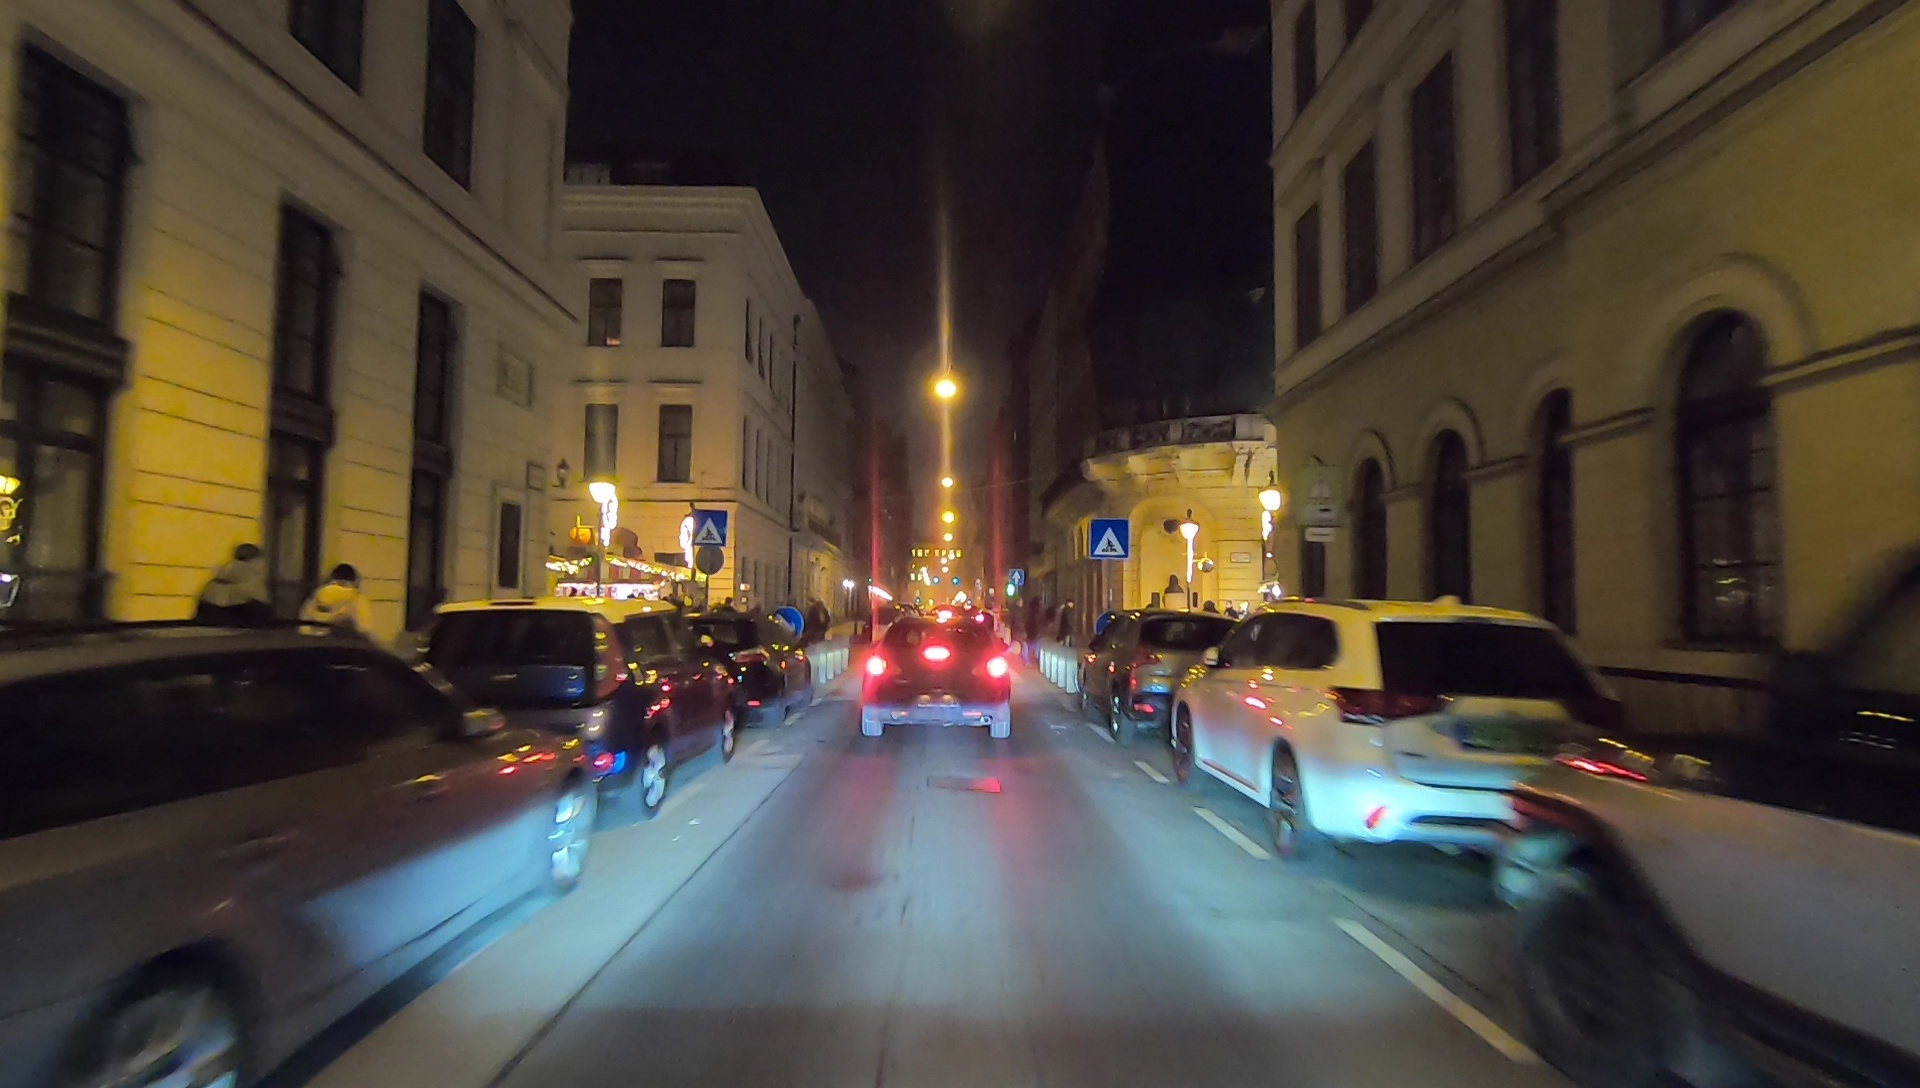person: (191, 537, 273, 704), (302, 565, 380, 715)
